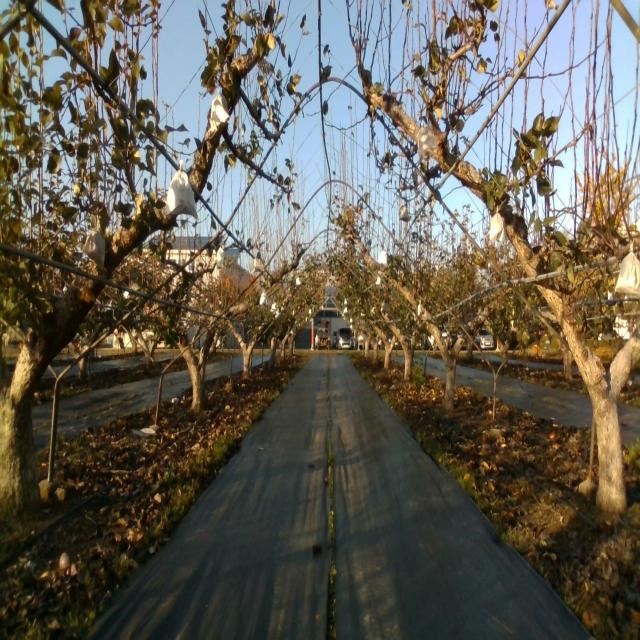pearbags: (164, 159, 199, 224), (614, 240, 640, 299), (82, 220, 105, 267), (209, 88, 231, 134), (417, 124, 438, 160), (489, 205, 506, 242)
